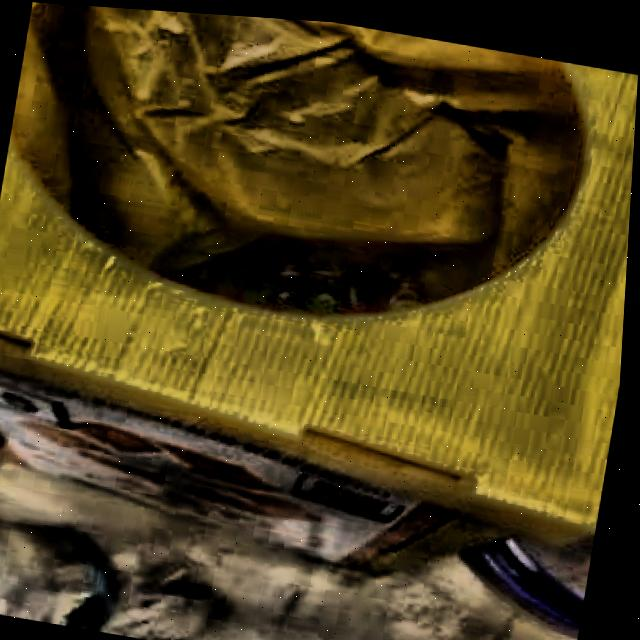plastic: (0, 515, 218, 640)
